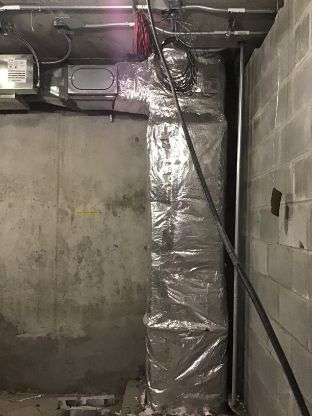Duct: (130, 22, 239, 416), (1, 41, 161, 127)
